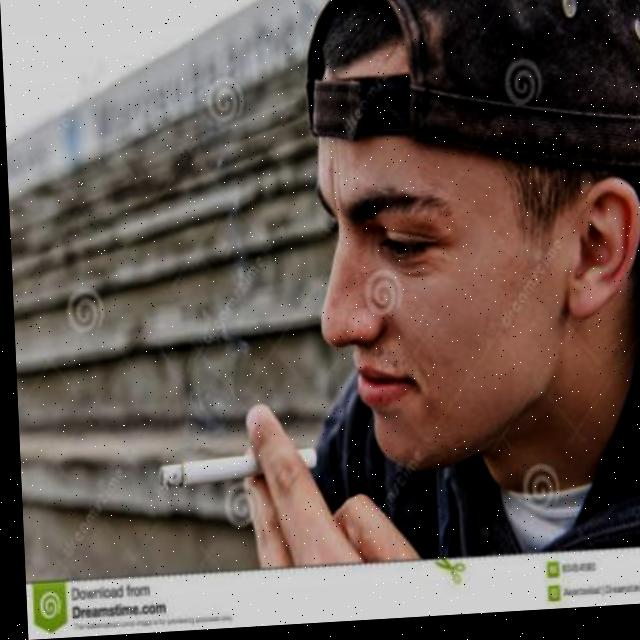cigarette: (152, 449, 316, 491)
